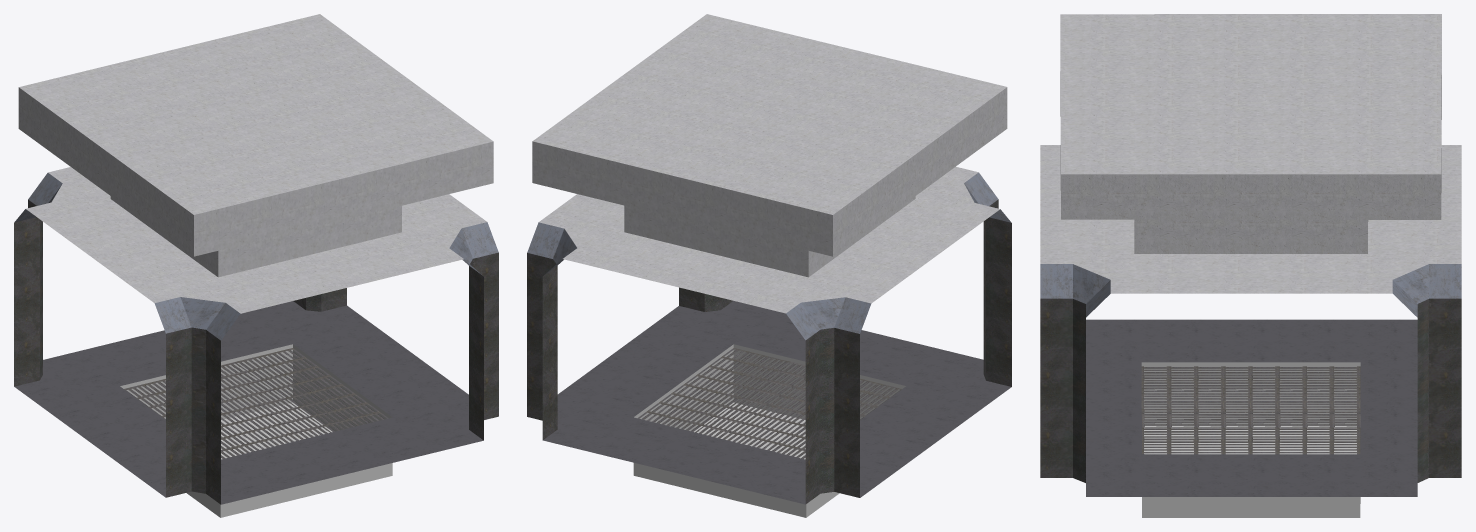
The model's file is starship_cross.FBX.
The picture shows the model from 3 angles, left to right: view 1: azimuth 30°, elevation 25°; view 2: azimuth 150°, elevation 25°; view 3: azimuth 270°, elevation 25°; orthographic projection. The views are drawn at different scales.
Parts seen in each view (by area): view 1: Cross; view 2: Cross; view 3: Cross.
Boxes of the visible parts, <box> form: Cross: <box>14,14,498,517</box>; Cross: <box>527,14,1011,517</box>; Cross: <box>1040,14,1461,517</box>.
Bounding box in the file's own units: 3.08 × 3.06 × 3.09.
